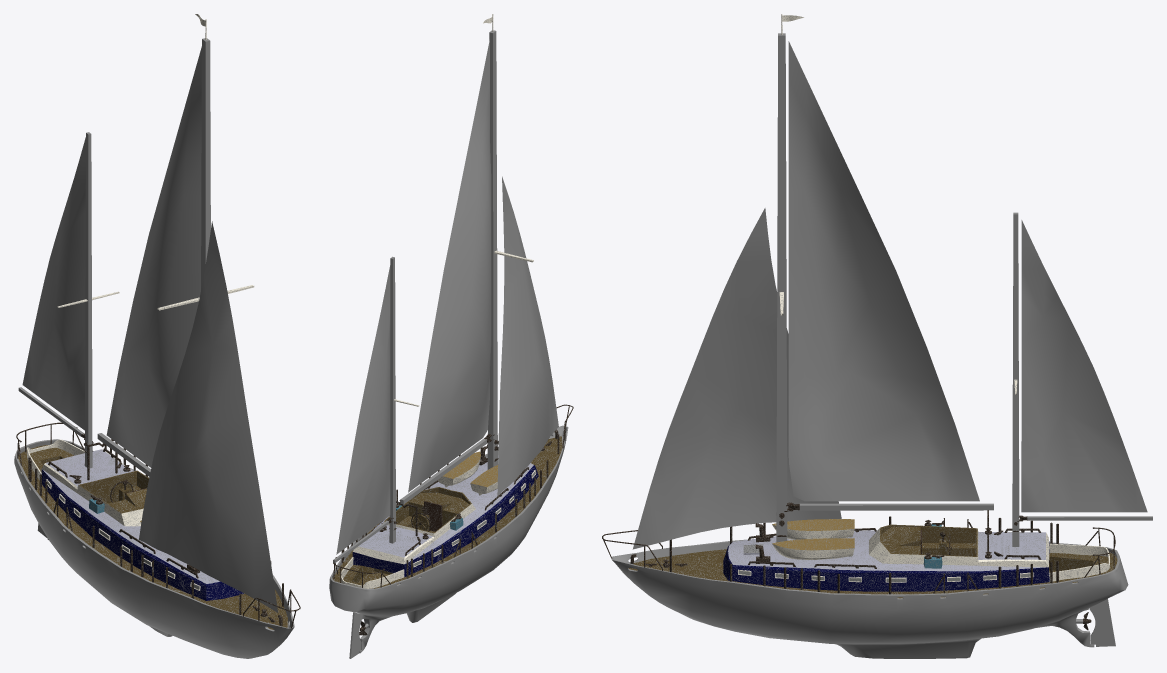
The picture shows the model from 3 angles, left to right: view 1: azimuth 30°, elevation 25°; view 2: azimuth 150°, elevation 25°; view 3: azimuth 270°, elevation 25°; orthographic projection. The views are drawn at different scales.
Visible parts, largest first — view 1: group_0 (×3), CILNUEVOS (×11); view 2: group_0 (×3), CILNUEVOS (×14); view 3: group_0 (×3), CILNUEVOS (×13).
Boxes of the visible parts, left/top/right/bottom form: group_0 (×3): left=22, top=46, right=277, bottom=612; CILNUEVOS (×11): left=14, top=38, right=294, bottom=658; group_0 (×3): left=336, top=39, right=558, bottom=554; CILNUEVOS (×14): left=329, top=30, right=568, bottom=658; group_0 (×3): left=632, top=41, right=1147, bottom=549; CILNUEVOS (×13): left=611, top=33, right=1128, bottom=658.
Size of the model in its own units: 92918 by 352565 by 454691.
